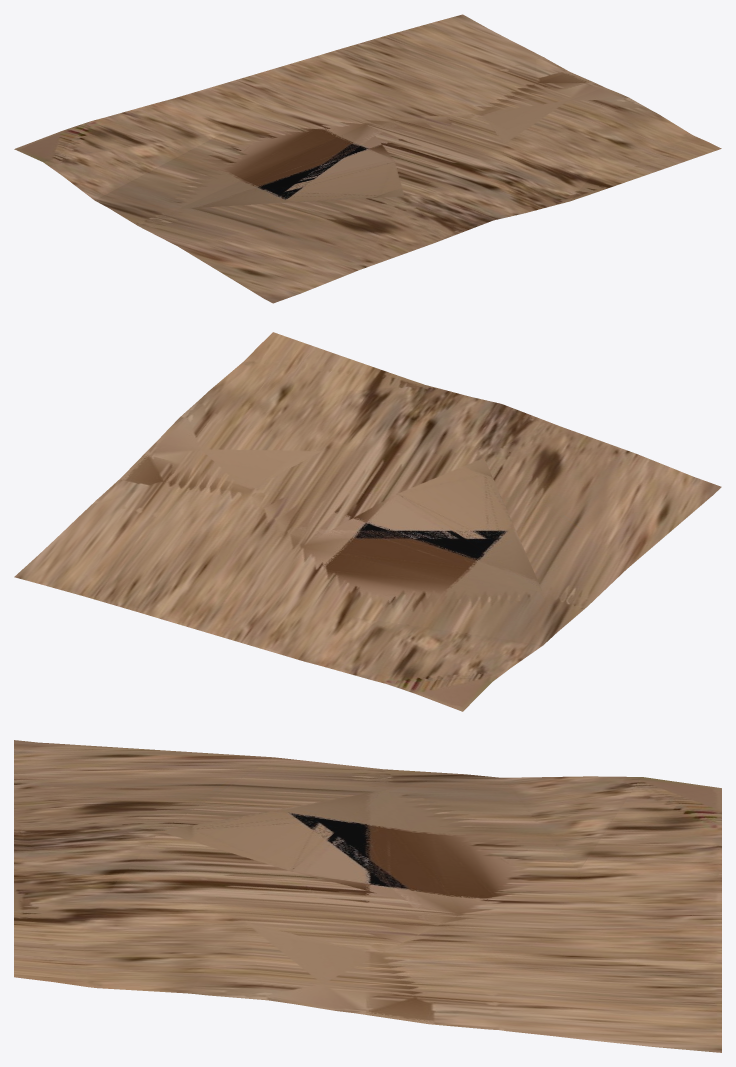
3 renders of one model, top to bottom at view 1: azimuth 30°, elevation 25°; view 2: azimuth 150°, elevation 25°; view 3: azimuth 270°, elevation 25°, orthographic. The views are drawn at different scales.
Bounding box in the file's own units: 4.18 × 0.717 × 4.18.
3 materials, 3 textured.
